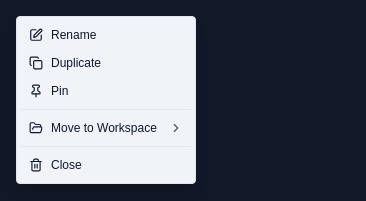
Test: SidebarTabContextMenu › Move to Workspace › should show submenu with other workspaces
This screenshot has width=366, height=201.
Hover over the text "Move to Workspace".
mouse_move(106, 128)  # box [17,114,195,142]
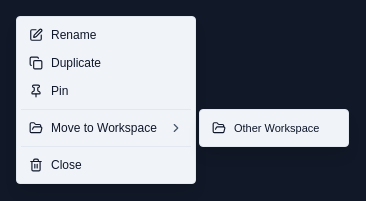
Check: the text "Other Workspace" is shown, box [234,122,319,134]
